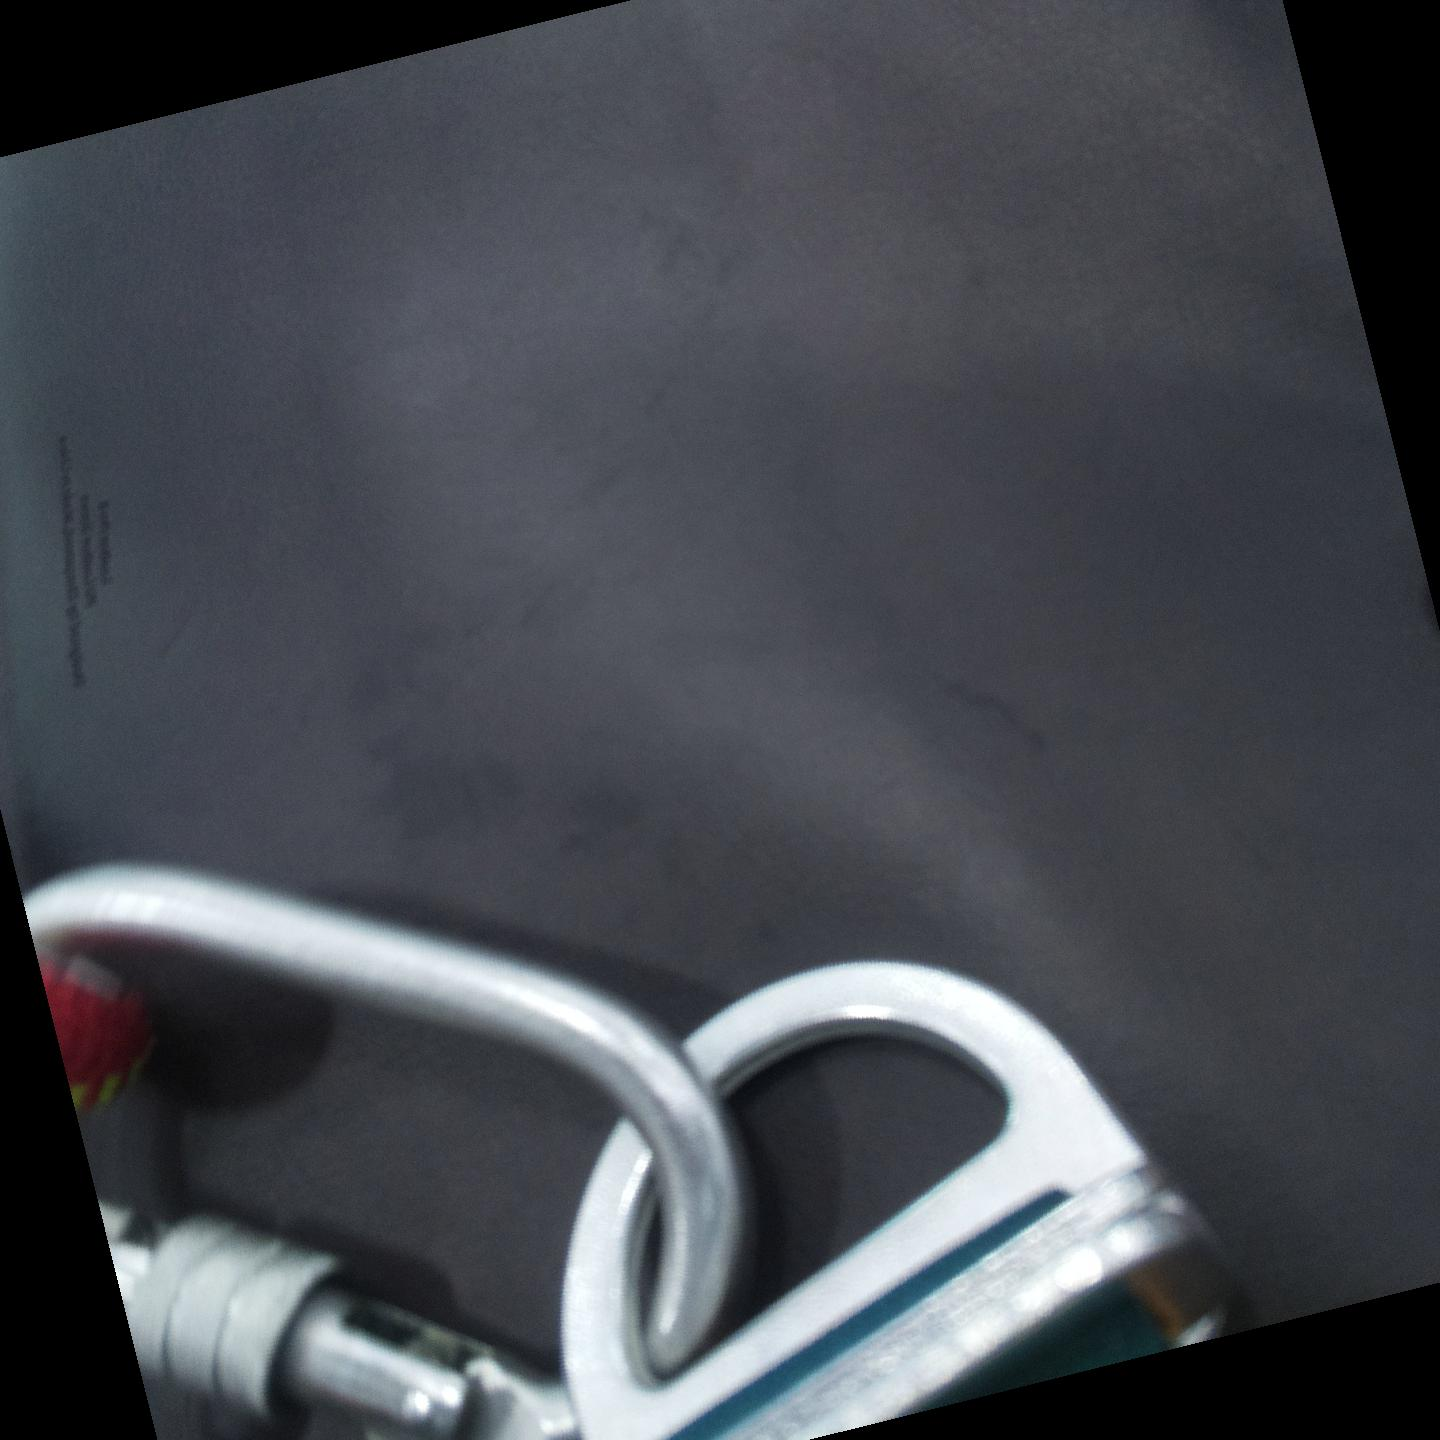SUCCESS: (273, 847, 1179, 1377)
